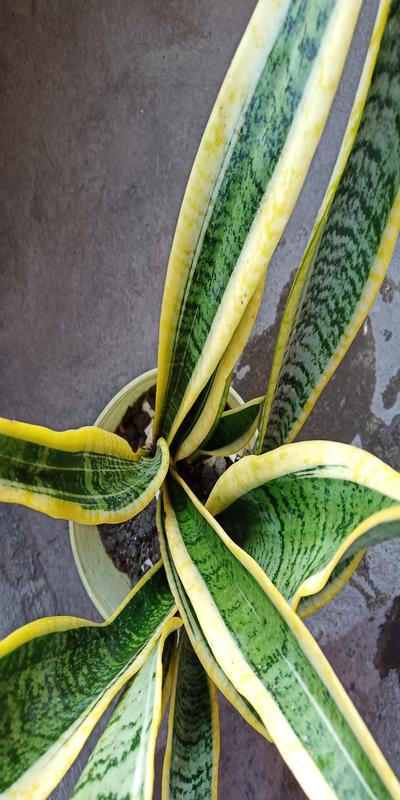Snake plant: (136, 37, 383, 766)
